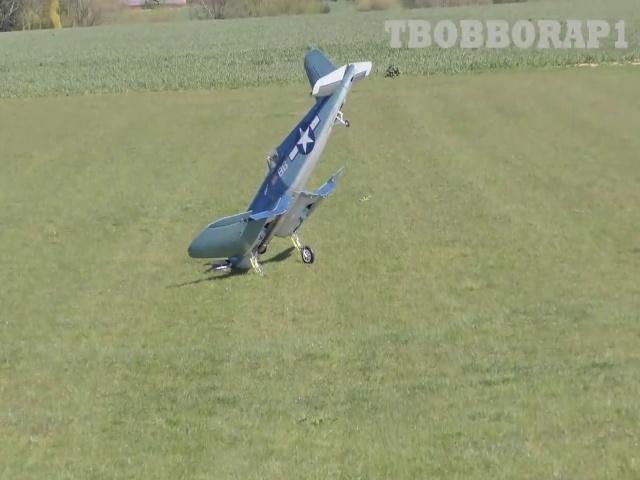Airplane: (188, 49, 372, 277)
